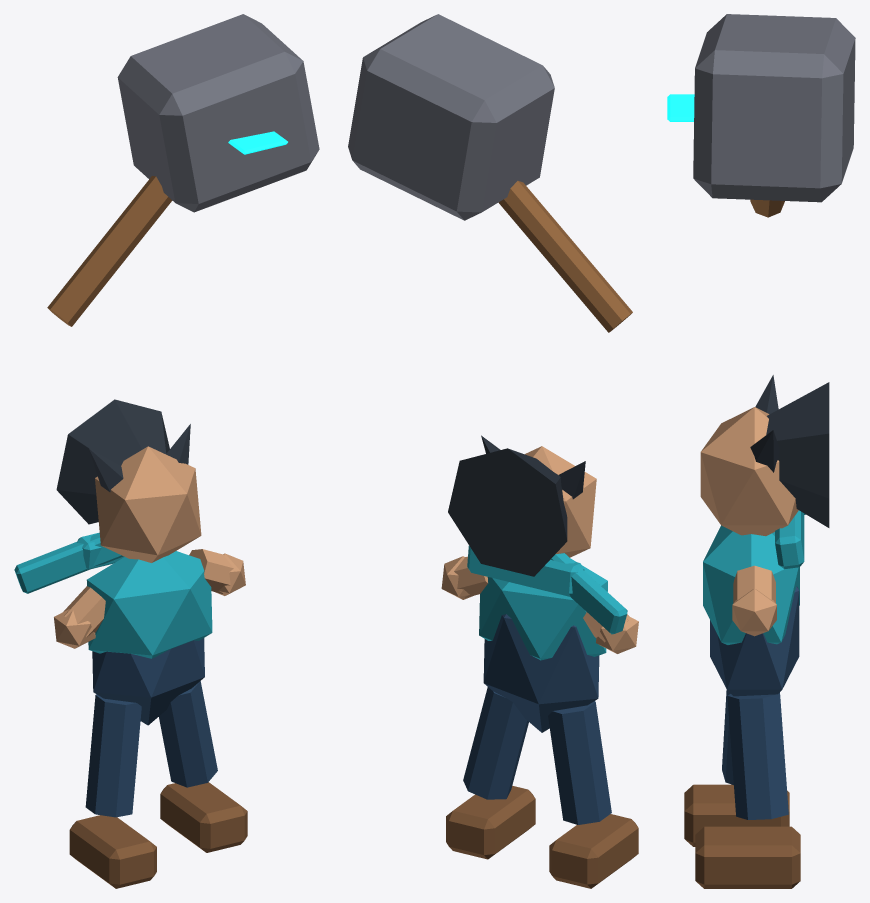
The model's file is hero_hammer_v2.glb.
3 renders of one model, left to right at view 1: azimuth 30°, elevation 25°; view 2: azimuth 150°, elevation 25°; view 3: azimuth 270°, elevation 25°, orthographic. The views are drawn at different scales.
Parts seen in each view (by area): view 1: Hammer_Head, Hero_Chest, Hero_Head, Hero_HairBack, Hero_Torso, Hero_Leg_L, Hammer_Handle, Hero_Boot_L, Hero_Boot_R, Hero_Leg_R, Hero_ScarfTail, Hero_Arm_L (+5 smaller); view 2: Hammer_Head, Hero_HairBack, Hero_Torso, Hero_Chest, Hero_Leg_L, Hammer_Handle, Hero_Leg_R, Hero_Boot_L, Hero_Boot_R, Hero_Head, Hero_ScarfTail, Hero_Scarf (+4 smaller); view 3: Hammer_Head, Hero_Head, Hero_Leg_R, Hero_Boot_R, Hero_HairBack, Hero_Chest, Hero_Torso, Hero_Boot_L, Hero_Hand_R, Hero_Scarf, Hero_Arm_R, Hammer_Rune (+4 smaller).
Part boxes in pixels (x1,y1,x2,y2): Hammer_Head: (117, 14, 319, 212); Hero_Chest: (86, 551, 212, 658); Hero_Head: (95, 446, 201, 562); Hero_HairBack: (56, 399, 169, 524); Hero_Torso: (92, 638, 204, 725); Hero_Leg_L: (85, 694, 141, 817); Hammer_Handle: (47, 176, 172, 326); Hero_Boot_L: (69, 815, 156, 888); Hero_Boot_R: (160, 782, 247, 852); Hero_Leg_R: (159, 681, 217, 787); Hero_ScarfTail: (14, 533, 123, 593); Hero_Arm_L: (63, 586, 105, 636); Hammer_Head: (348, 14, 554, 220); Hero_HairBack: (448, 448, 567, 576); Hero_Torso: (483, 614, 599, 732); Hero_Chest: (479, 559, 607, 660); Hero_Leg_L: (548, 701, 611, 824); Hammer_Handle: (498, 181, 632, 332); Hero_Leg_R: (463, 687, 528, 799); Hero_Boot_L: (549, 814, 638, 888); Hero_Boot_R: (446, 785, 535, 859); Hero_Head: (525, 446, 596, 557); Hero_ScarfTail: (550, 553, 627, 634); Hero_Scarf: (467, 546, 584, 596); Hammer_Head: (693, 14, 855, 202); Hero_Head: (700, 407, 798, 536); Hero_Leg_R: (727, 693, 788, 819); Hero_Boot_R: (695, 826, 800, 888); Hero_HairBack: (766, 382, 829, 527); Hero_Chest: (703, 525, 799, 644); Hero_Torso: (710, 586, 799, 696); Hero_Boot_L: (684, 784, 789, 846); Hero_Hand_R: (732, 588, 776, 636); Hero_Scarf: (775, 510, 804, 569); Hero_Arm_R: (733, 565, 775, 602); Hammer_Rune: (667, 94, 694, 121).
Bounding box in the file's own units: 3.13 × 8.81 × 1.72.
